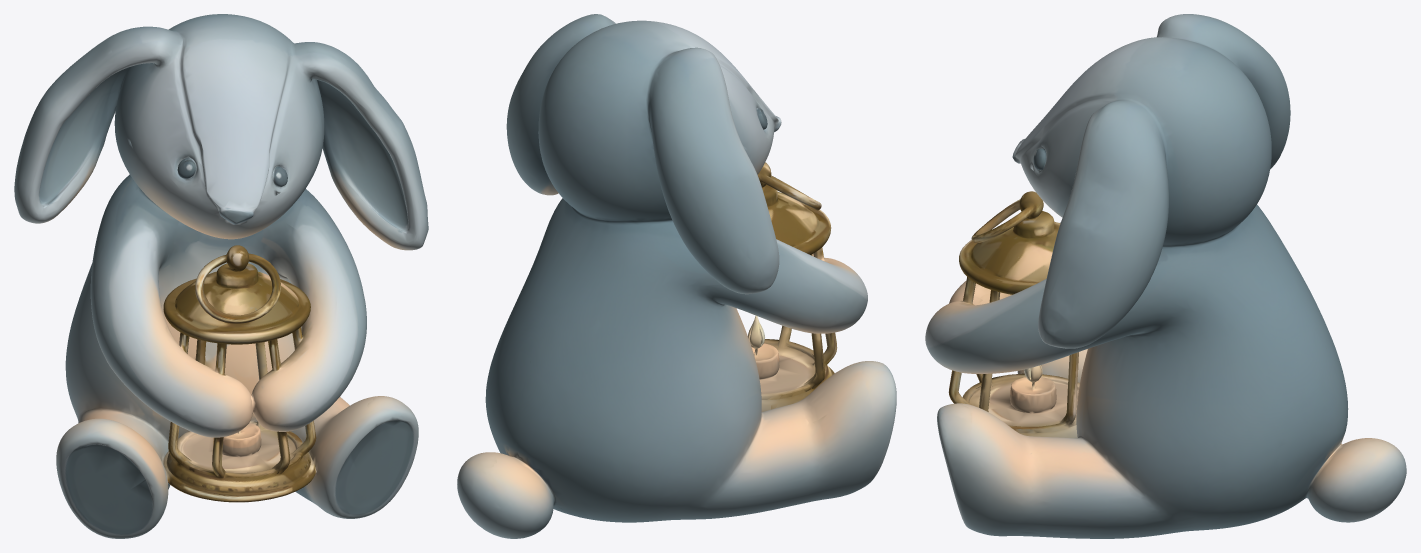
The model's file is light.fbx.
3 views of the same model, side by side, from view 1: azimuth 30°, elevation 25°; view 2: azimuth 150°, elevation 25°; view 3: azimuth 270°, elevation 25° (orthographic). The views are drawn at different scales.
Visible parts, largest first — view 1: lightbunny; view 2: lightbunny; view 3: lightbunny.
Boxes of the visible parts, left/top/right/bottom form: lightbunny: left=14, top=14, right=428, bottom=538; lightbunny: left=457, top=14, right=896, bottom=538; lightbunny: left=925, top=14, right=1406, bottom=538.
Size of the model in its own units: 873 by 1029 by 968.
